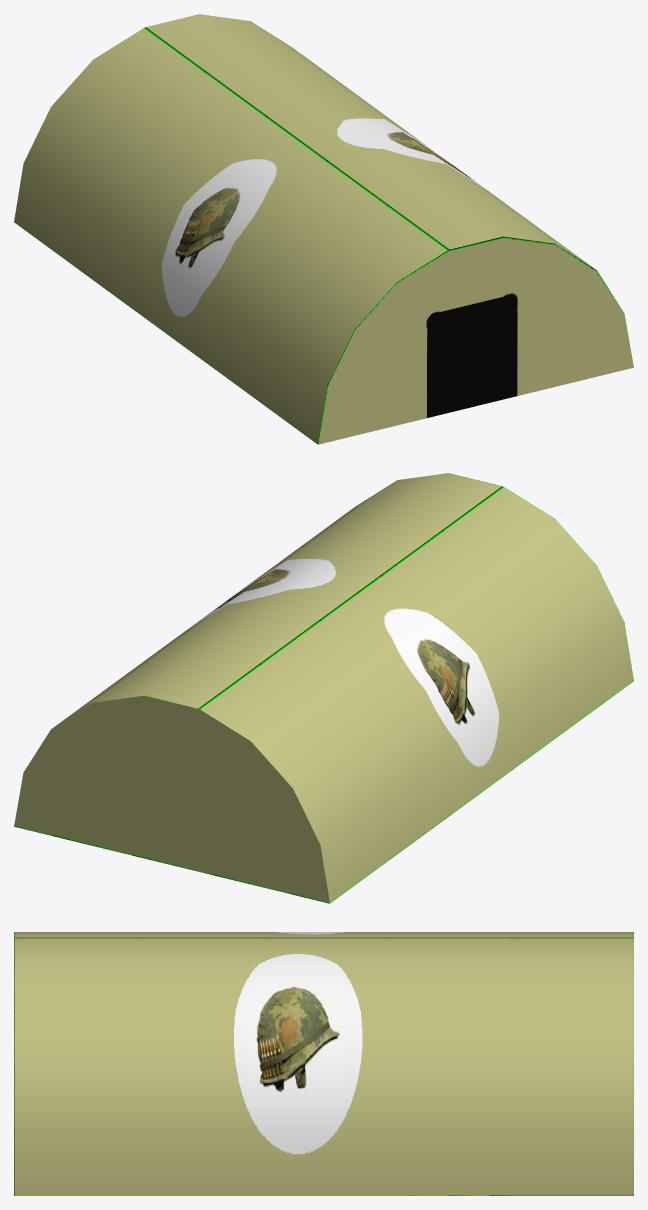
File: Outpost Rotated.FBX
3 views of the same model, one above another, from view 1: azimuth 30°, elevation 25°; view 2: azimuth 150°, elevation 25°; view 3: azimuth 270°, elevation 25° (orthographic).
Visible parts, largest first — view 1: Cylinder001; view 2: Cylinder001; view 3: Cylinder001.
Part boxes in pixels (x1,y1,x2,y2): Cylinder001: (14,14,633,444); Cylinder001: (14,473,633,903); Cylinder001: (14,932,633,1195).
Bounding box in the file's own units: 15 × 7.39 × 25.
